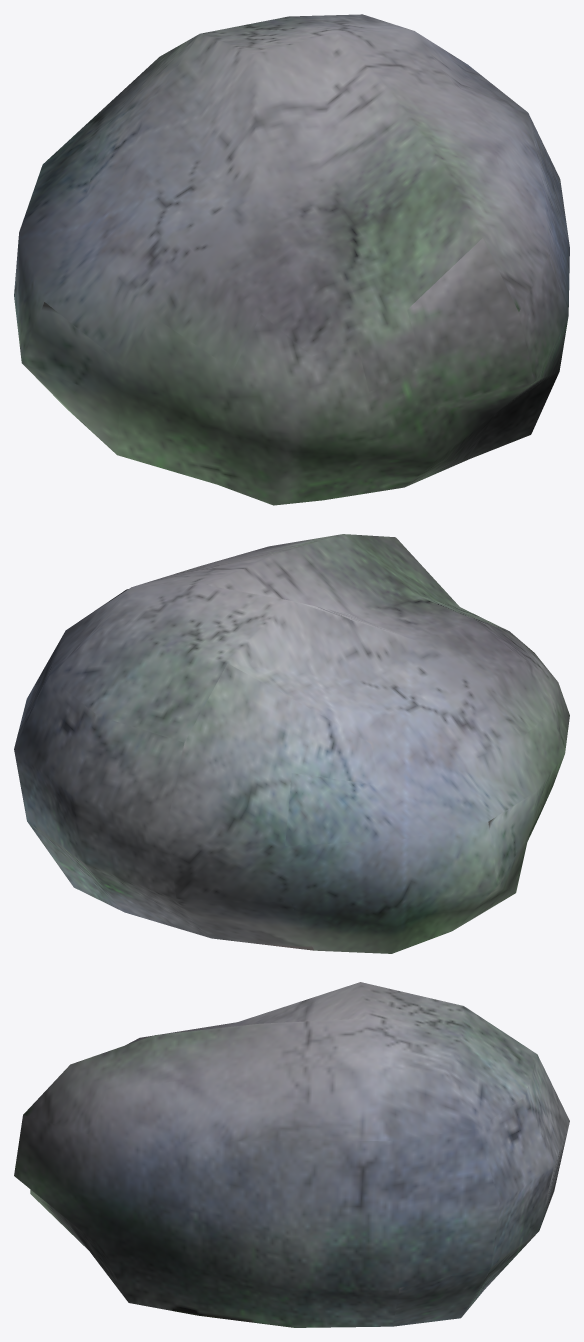
File: Rocks 02.glb
The picture shows the model from 3 angles, top to bottom: view 1: azimuth 30°, elevation 25°; view 2: azimuth 150°, elevation 25°; view 3: azimuth 270°, elevation 25°; orthographic projection. The views are drawn at different scales.
Visible parts, largest first — view 1: Rock 02; view 2: Rock 02; view 3: Rock 02.
Part boxes in pixels (x1=…): Rock 02: x1=14, y1=14, x2=569, y2=505; Rock 02: x1=14, y1=534, x2=569, y2=953; Rock 02: x1=14, y1=982, x2=569, y2=1327.
Size of what is drawn, in the model's own units: 2.76 by 1.67 by 3.19.
1 material, 1 textured.
